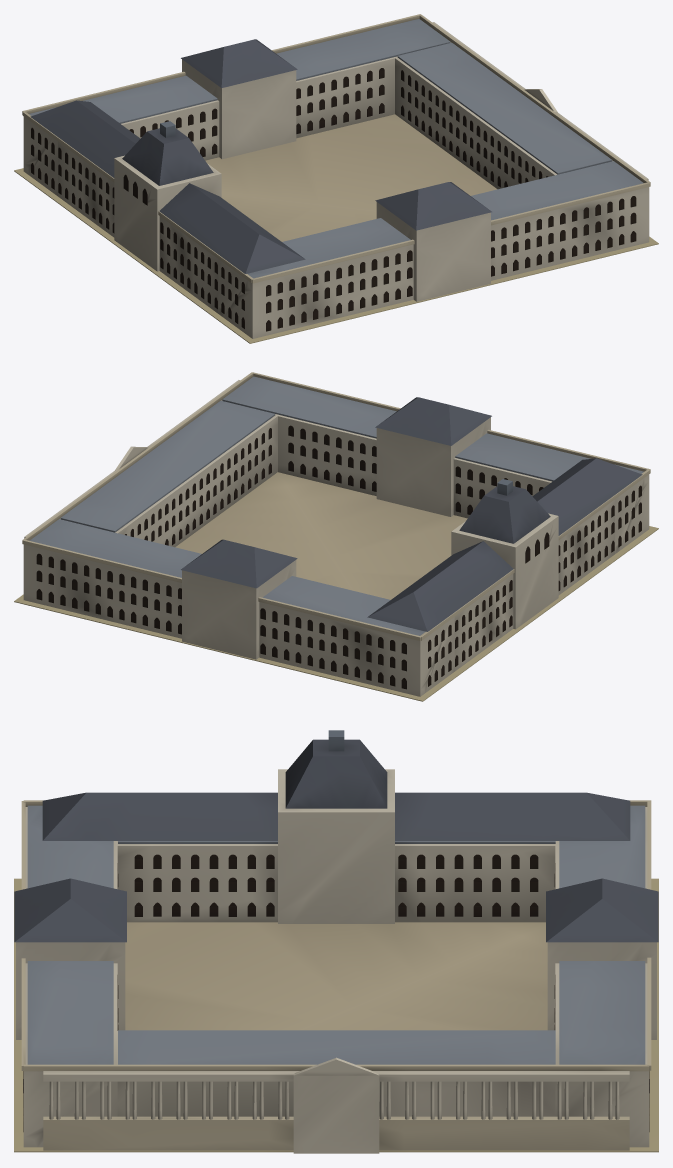
The model's file is louvre-1789.glb.
3 renders of one model, top to bottom at view 1: azimuth 30°, elevation 25°; view 2: azimuth 150°, elevation 25°; view 3: azimuth 270°, elevation 25°, orthographic. The views are drawn at different scales.
Parts seen in each view (by area): view 1: p1_pavilions, p0_wings; view 2: p0_wings, p1_pavilions; view 3: p1_pavilions, p0_wings.
Boxes of the visible parts, x1,y1,x2,y2 form: p1_pavilions: (22,14,650,301); p0_wings: (14,42,658,343); p0_wings: (14,400,658,701); p1_pavilions: (22,372,650,659); p1_pavilions: (14,730,658,1153); p0_wings: (14,807,658,1152).
Bounding box in the file's own units: 166 × 48.06 × 165.
